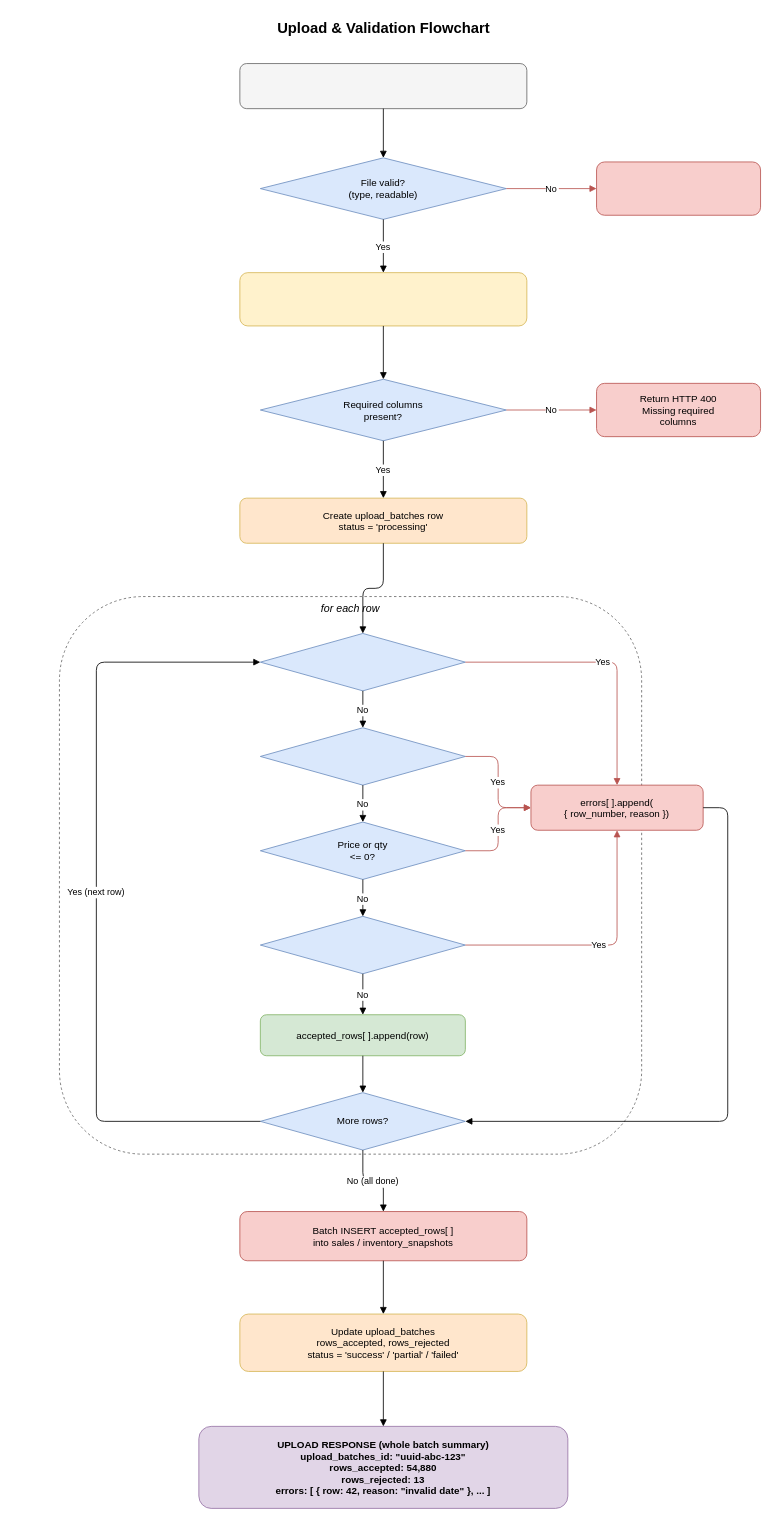
Some shapes in this 775 by 1523 pixel diagram are drawn without their labels. Each missing label, with the box of its shape:
CSV / Excel file uploaded POST /upload/sales or /upload/inventory: (239, 63, 527, 109)
Date invalid or missing?: (260, 727, 465, 785)
Duplicate row (same Product ID + date)?: (260, 916, 465, 974)
Parser (app/parsers/) Read file → pandas DataFrame normalise column headers: (239, 272, 527, 326)
Product ID missing or unknown?: (260, 633, 465, 691)
Return HTTP 400 Invalid file type or unreadable file: (596, 161, 761, 215)
